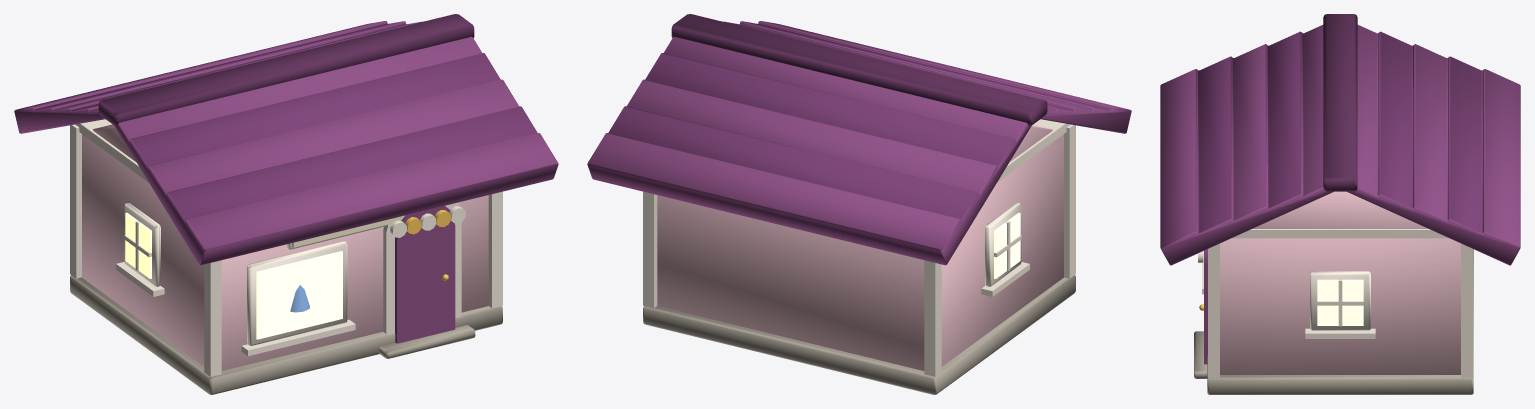
The model's file is v_boutique.glb.
3 renders of one model, left to right at view 1: azimuth 30°, elevation 25°; view 2: azimuth 150°, elevation 25°; view 3: azimuth 270°, elevation 25°, orthographic. The views are drawn at different scales.
Parts seen in each view (by area): view 1: Boutique; view 2: Boutique; view 3: Boutique.
Part boxes in pixels (bbox=[...]): Boutique: bbox=[14, 14, 558, 394]; Boutique: bbox=[587, 14, 1131, 394]; Boutique: bbox=[1160, 14, 1520, 394].
Size of the model in its own units: 5.9 by 3.85 by 5.4.
